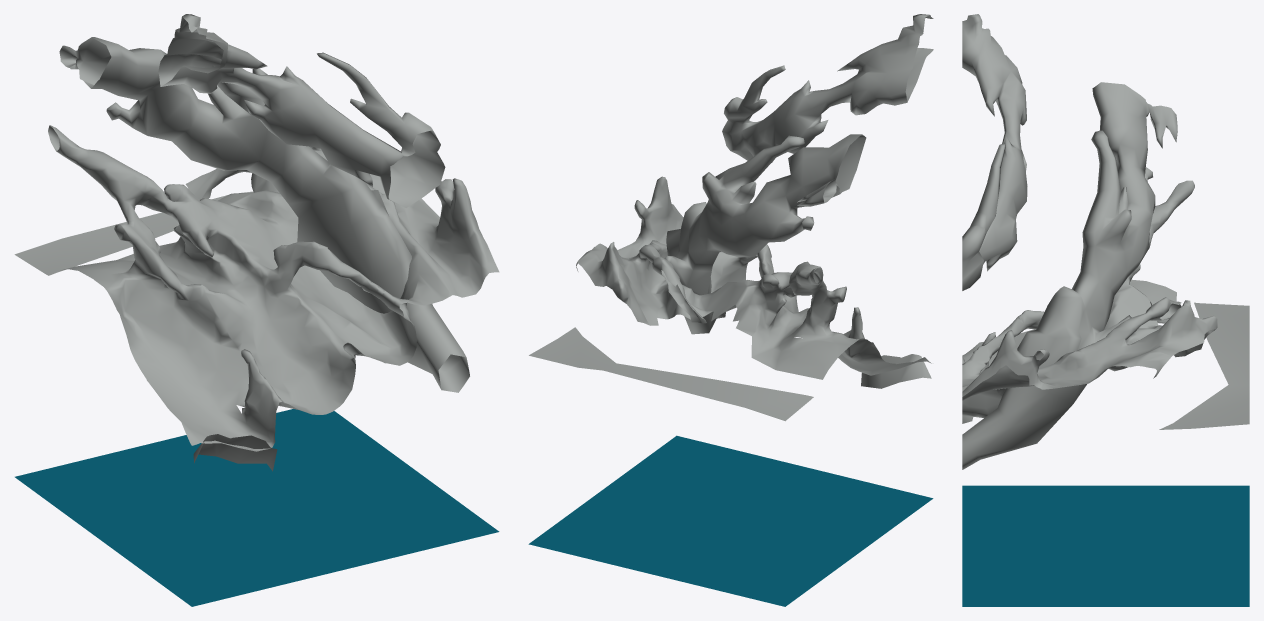
3 views of the same model, side by side, from view 1: azimuth 30°, elevation 25°; view 2: azimuth 150°, elevation 25°; view 3: azimuth 270°, elevation 25° (orthographic). The views are drawn at different scales.
Parts seen in each view (by area): view 1: G:\FFXIV-MapTools\exports\s1f3\bg\ffxiv\sea_s1\fld\s1f3\bgpl (×13); view 2: G:\FFXIV-MapTools\exports\s1f3\bg\ffxiv\sea_s1\fld\s1f3\bgpl (×13); view 3: G:\FFXIV-MapTools\exports\s1f3\bg\ffxiv\sea_s1\fld\s1f3\bgpl (×12).
Part boxes in pixels (box(x1,y1,x2,y2)): G:\FFXIV-MapTools\exports\s1f3\bg\ffxiv\sea_s1\fld\s1f3\bgpl (×13): box(14, 14, 499, 606); G:\FFXIV-MapTools\exports\s1f3\bg\ffxiv\sea_s1\fld\s1f3\bgpl (×13): box(528, 14, 933, 606); G:\FFXIV-MapTools\exports\s1f3\bg\ffxiv\sea_s1\fld\s1f3\bgpl (×12): box(962, 14, 1249, 606).
Bounding box in the file's own units: 128 × 232 × 128.
